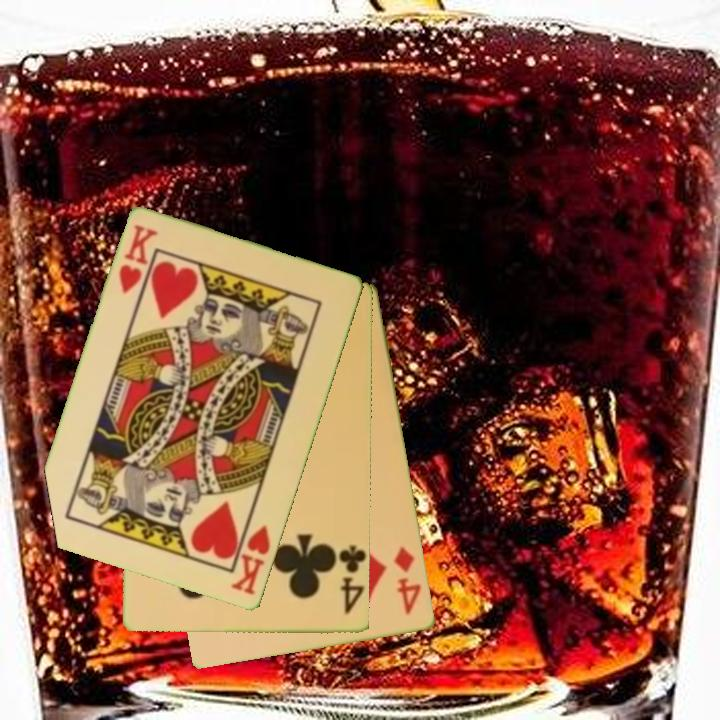4c: (335, 542, 367, 618)
4d: (391, 543, 425, 618)
Kh: (228, 513, 274, 599), (115, 221, 161, 298)
